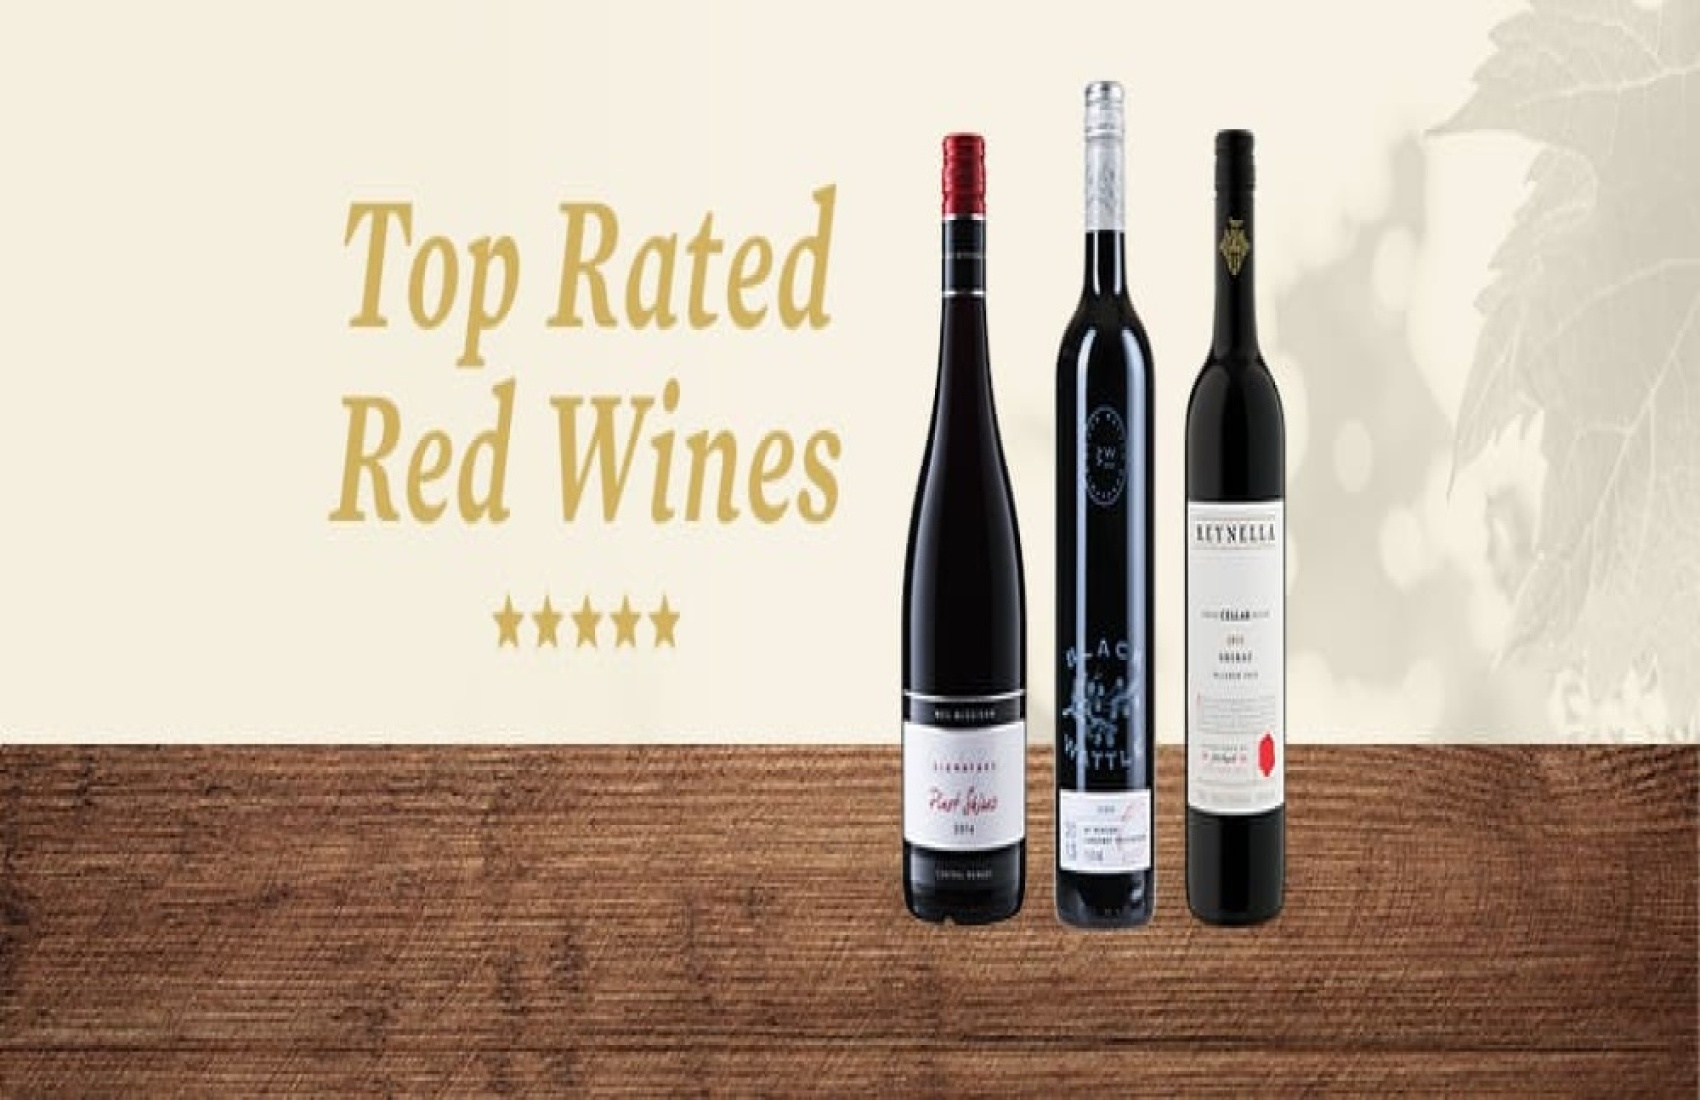wine: (896, 133, 1020, 915), (1059, 129, 1152, 920), (1182, 125, 1275, 915)
